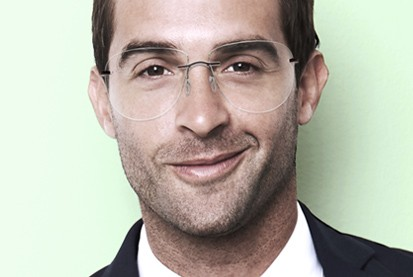llen: (207, 39, 296, 114)
rlen: (103, 46, 190, 121)
